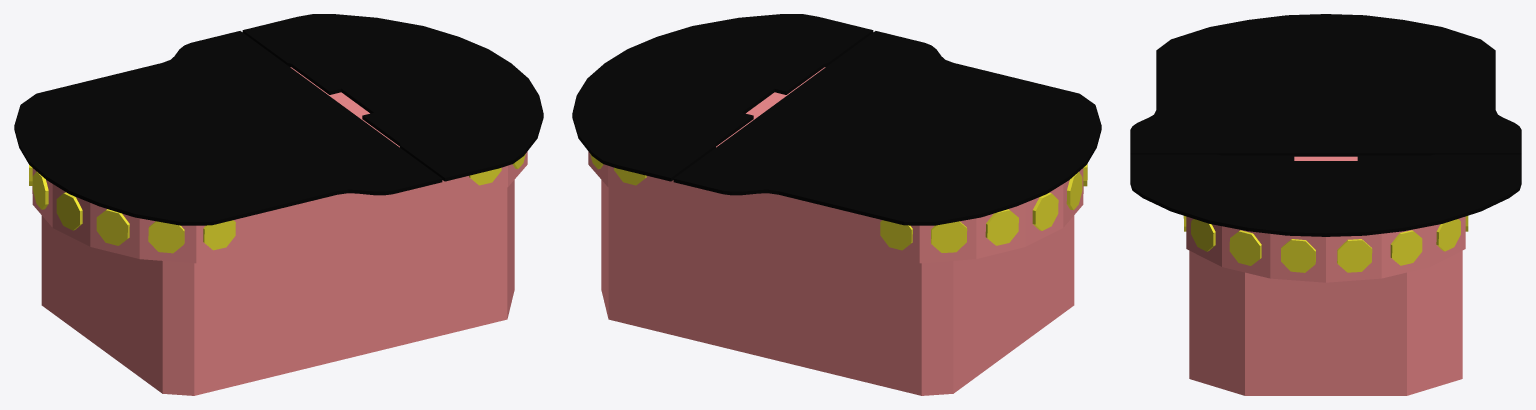
Rendered from chassis.dae.
The picture shows the model from 3 angles, left to right: view 1: azimuth 30°, elevation 25°; view 2: azimuth 150°, elevation 25°; view 3: azimuth 270°, elevation 25°; orthographic projection. The views are drawn at different scales.
Visible parts, largest first — view 1: chassis_top, chassis, sonarbank_001; view 2: chassis_top, chassis, sonarbank_001; view 3: chassis_top, chassis, sonarbank.
Boxes of the visible parts, x1,y1,x2,y2 form: chassis_top: (14,14,543,225); chassis: (32,67,527,395); sonarbank_001: (29,165,235,253); chassis_top: (572,14,1101,225); chassis: (588,67,1083,395); sonarbank_001: (880,164,1087,252); chassis_top: (1130,14,1521,236); chassis: (1186,156,1465,395); sonarbank: (1183,216,1468,272).
Size of the model in its own units: 0.5082 by 0.3831 by 0.195.
